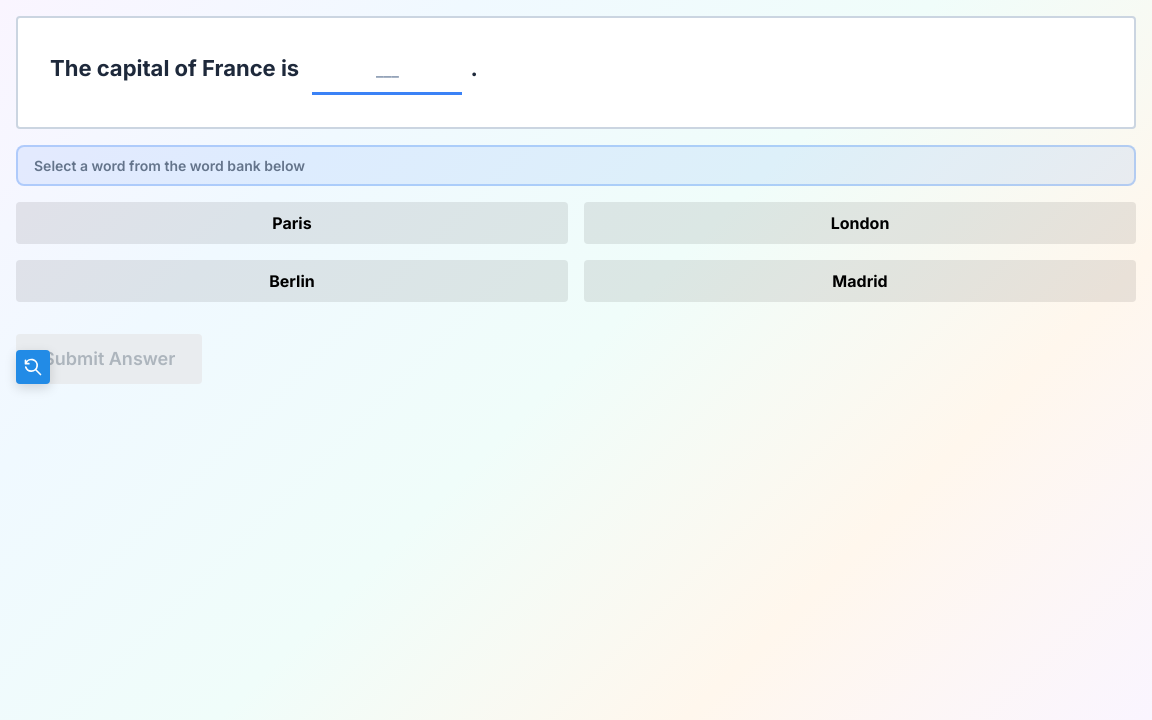
Scenario: CompletionView › should allow changing the answer to a different word
This screenshot has width=1152, height=720.
Click the button "Paris" at (292,223), box [16,202,568,244]
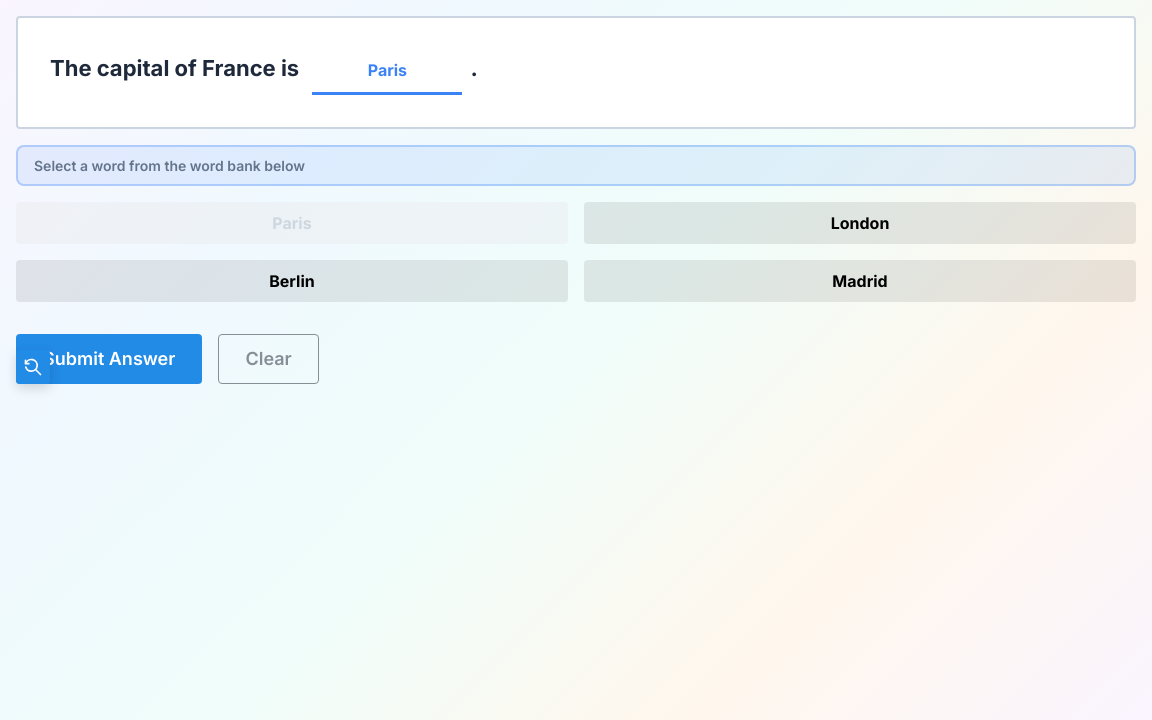
Now the text "___" is gone
Click the button "Clear" at (269,359), box [218,334,319,384]
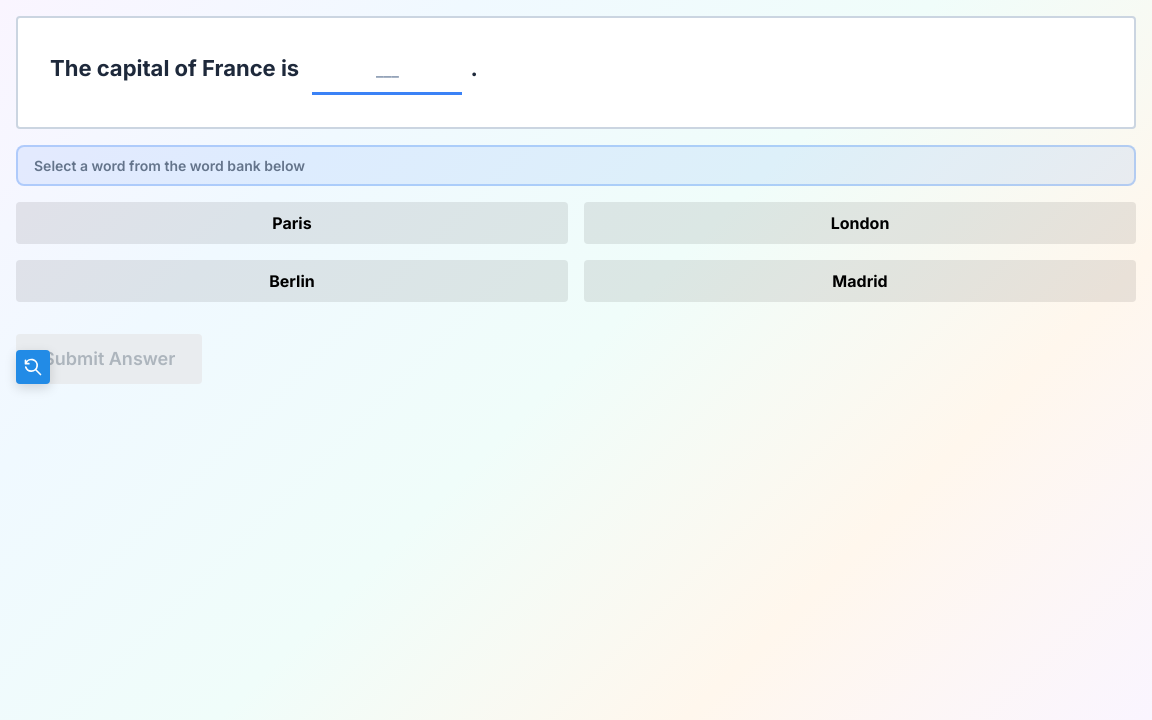
Now the text "___" is shown, box [312,50,462,95]
Click the button "London" at (860,223), box [584,202,1136,244]
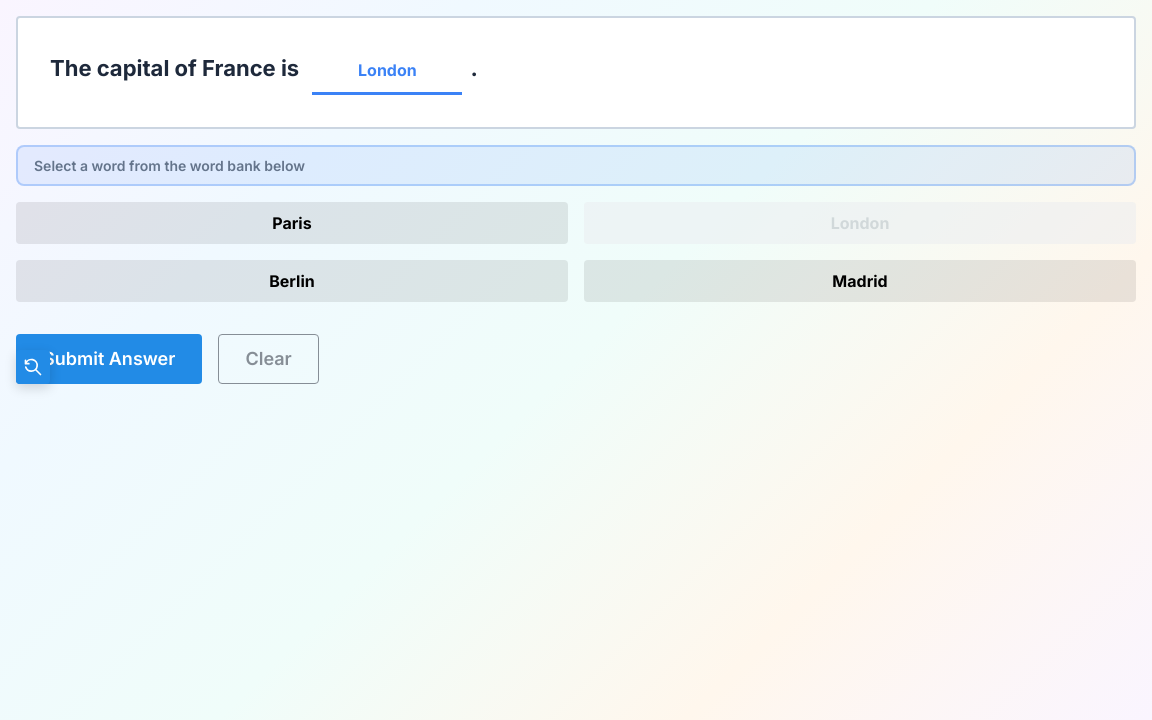
Now the text "___" is gone
Now the text "London" is shown, box [312,50,462,95]
